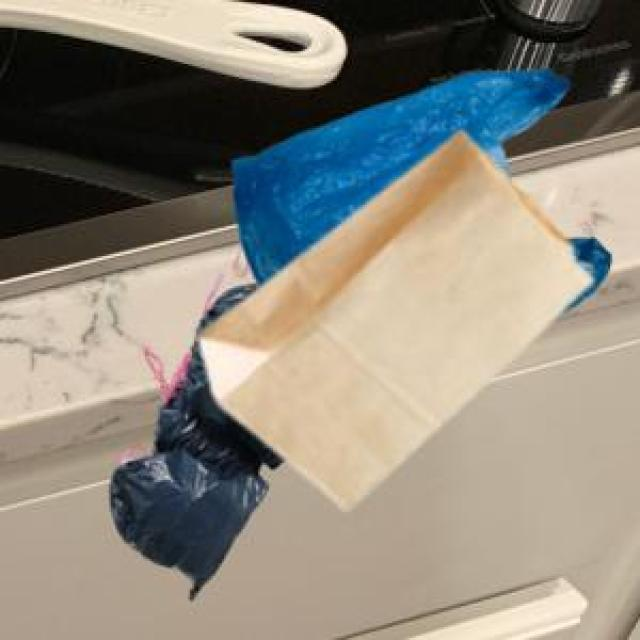miscellaneous trash: (107, 269, 282, 595)
paper: (196, 128, 587, 504)
